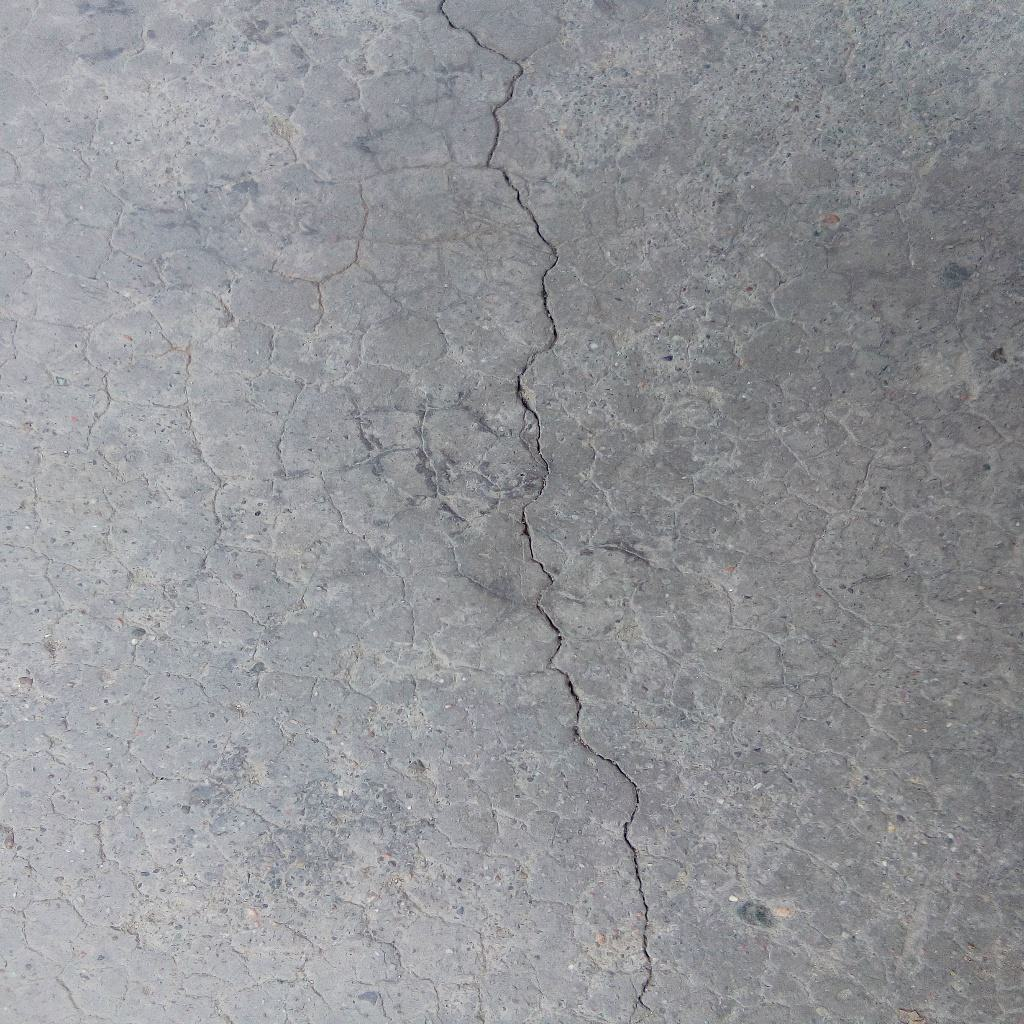Crack: (437, 1, 655, 1024)
